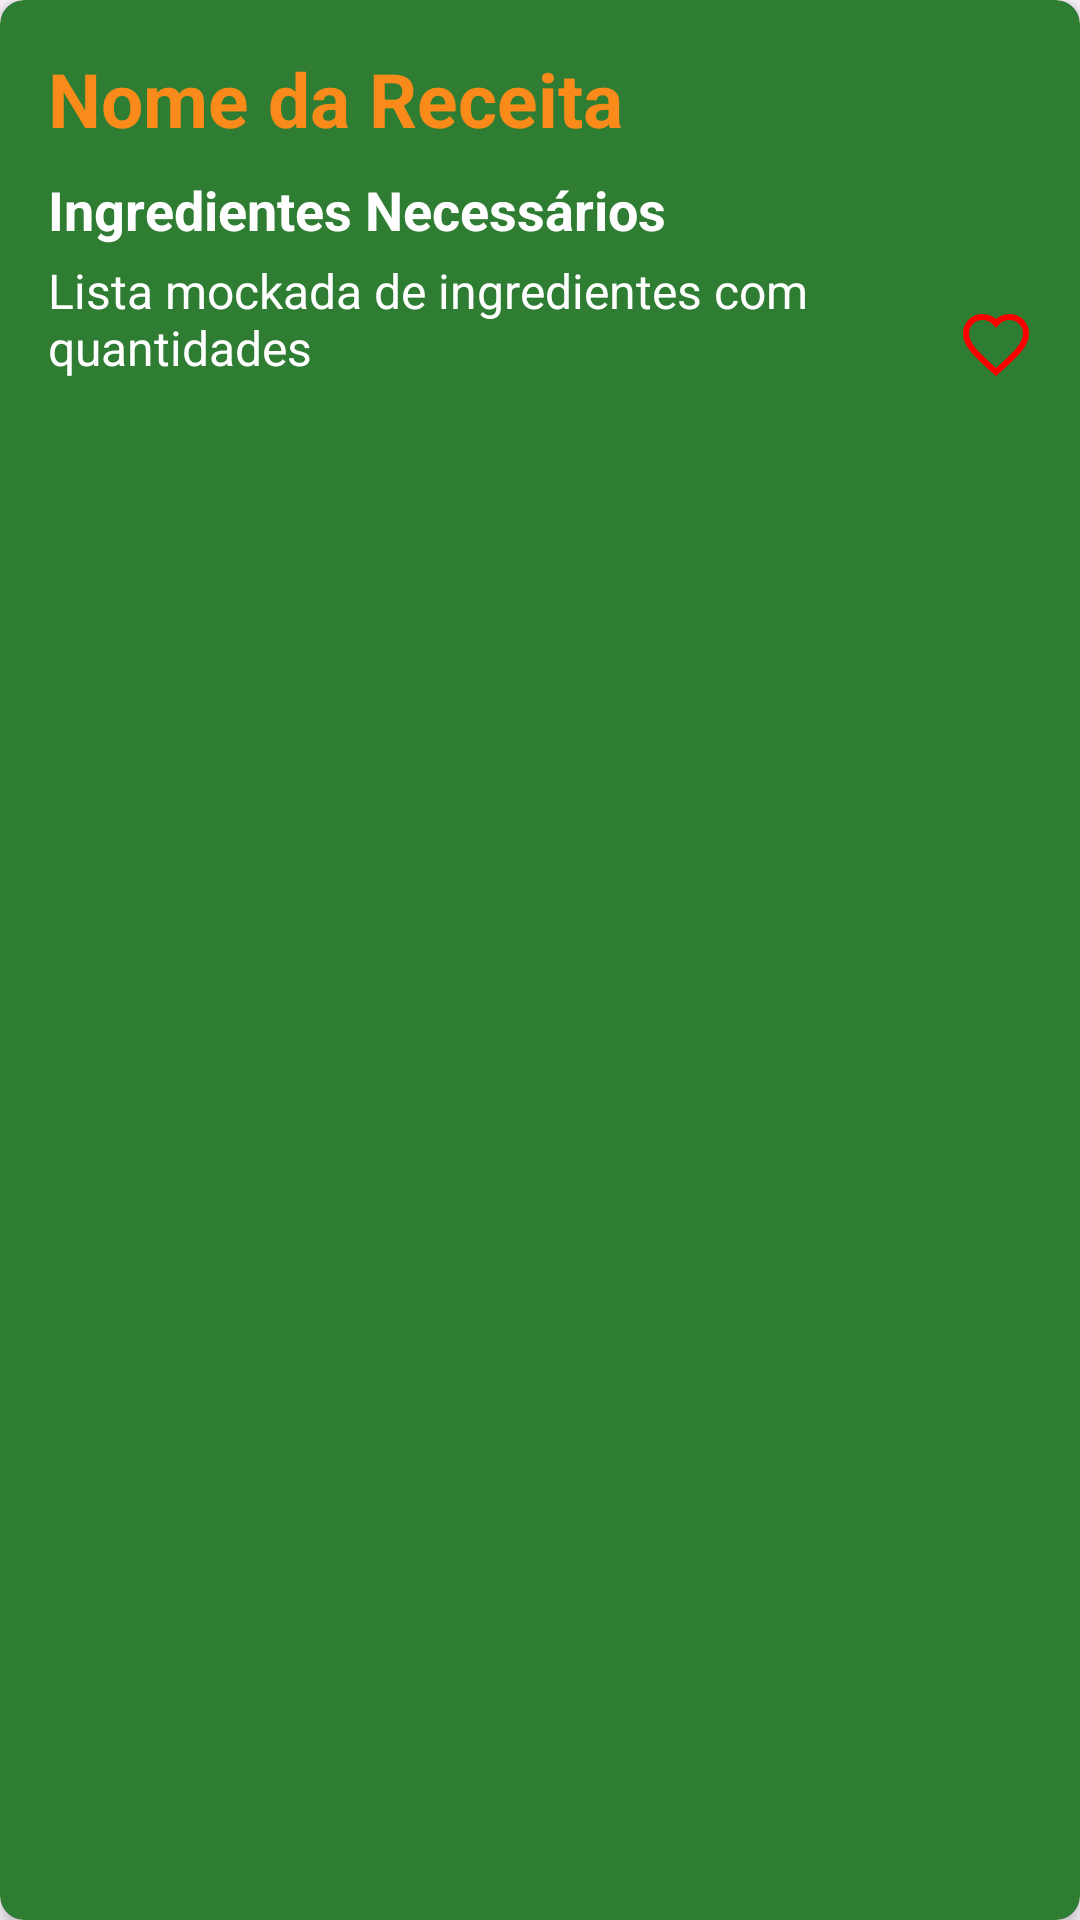

Where to tap for icons on this 1080px x 1920px app screen, as [x,y]:
Favoritar receita: [996,345]
